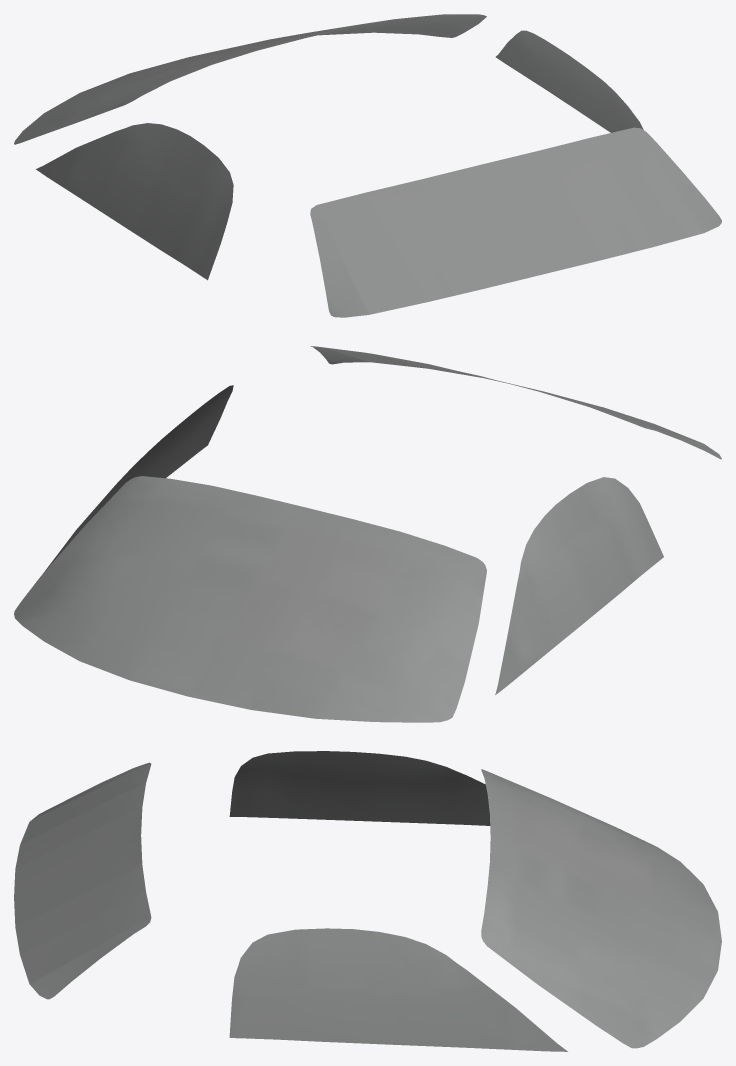
File: Geamuri_masina.obj
3 views of the same model, one above another, from view 1: azimuth 30°, elevation 25°; view 2: azimuth 150°, elevation 25°; view 3: azimuth 270°, elevation 25° (orthographic).
Visible parts, largest first — view 1: MRS.020, MRS.045, MRS.001, MRS.053; view 2: MRS.001, MRS.045, MRS.053, MRS.020; view 3: MRS.001, MRS.053, MRS.020, MRS.045.
Boxes of the visible parts, bbox=[...] form: MRS.020: bbox=[310, 127, 721, 317]; MRS.045: bbox=[36, 123, 233, 280]; MRS.001: bbox=[14, 14, 486, 144]; MRS.053: bbox=[495, 30, 643, 132]; MRS.001: bbox=[14, 476, 486, 722]; MRS.045: bbox=[495, 477, 663, 695]; MRS.053: bbox=[43, 385, 233, 573]; MRS.020: bbox=[310, 346, 721, 459]; MRS.001: bbox=[481, 769, 721, 1048]; MRS.053: bbox=[229, 928, 567, 1051]; MRS.020: bbox=[14, 762, 151, 999]; MRS.045: bbox=[229, 751, 490, 825].
Size of the model in its own units: 2.92 by 0.6622 by 3.92.
Materials: 4 (4 with a texture image).
